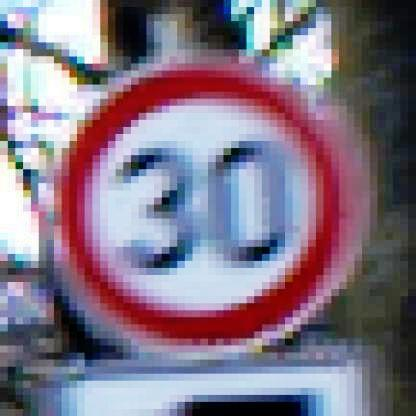Speed Limit -30-: (52, 57, 374, 359)
